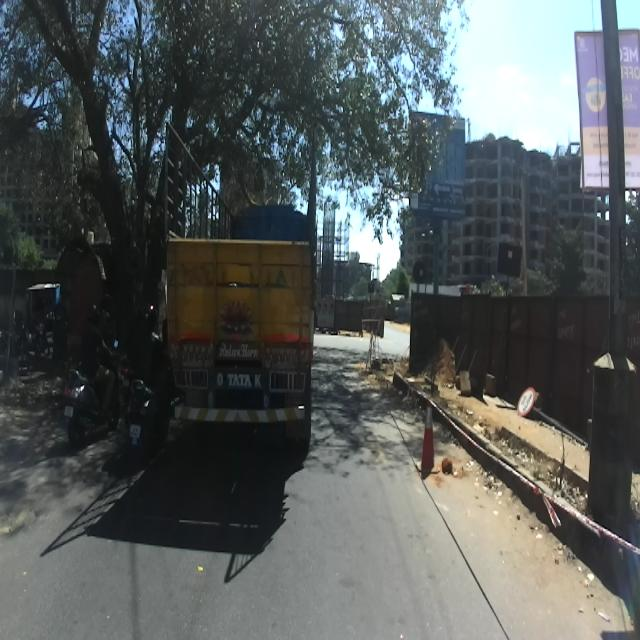barrier ahead at: (416, 392, 438, 476)
truck ahead at: (154, 102, 323, 453)
